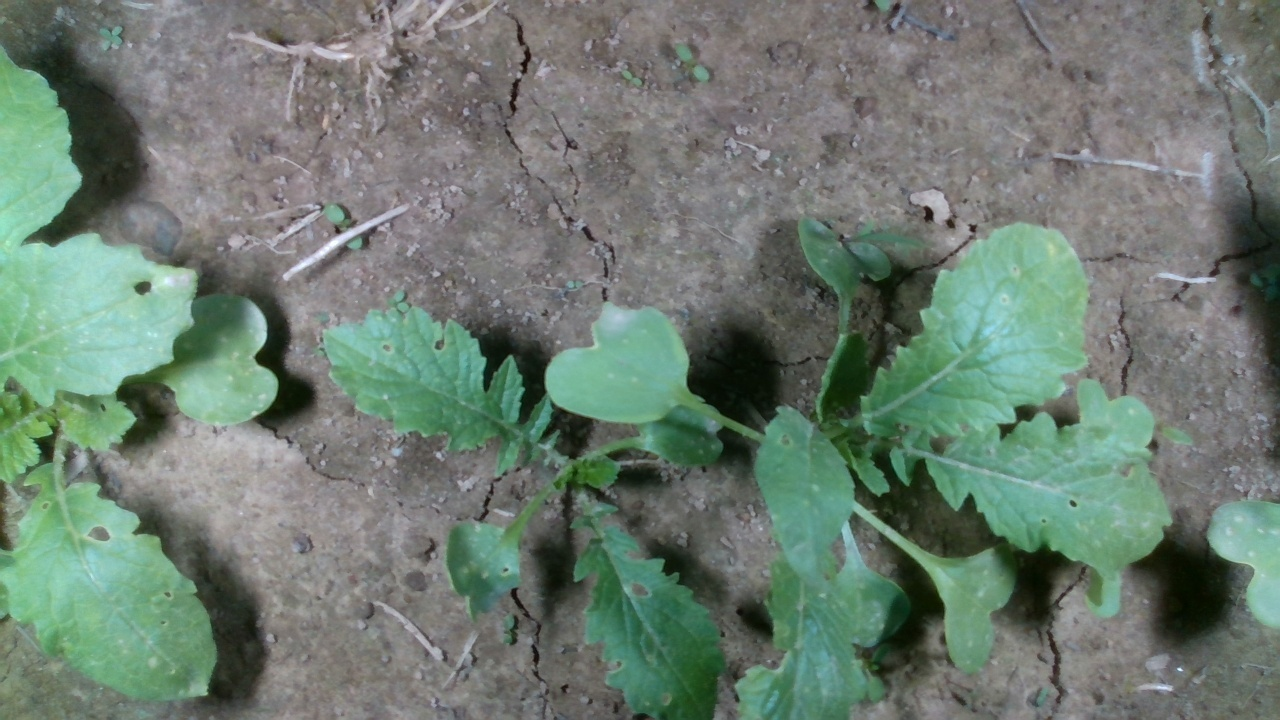weed: (325, 204, 364, 255), (671, 42, 710, 80), (620, 68, 643, 87)
